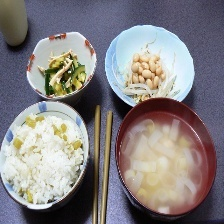rice: (0, 113, 85, 206)
